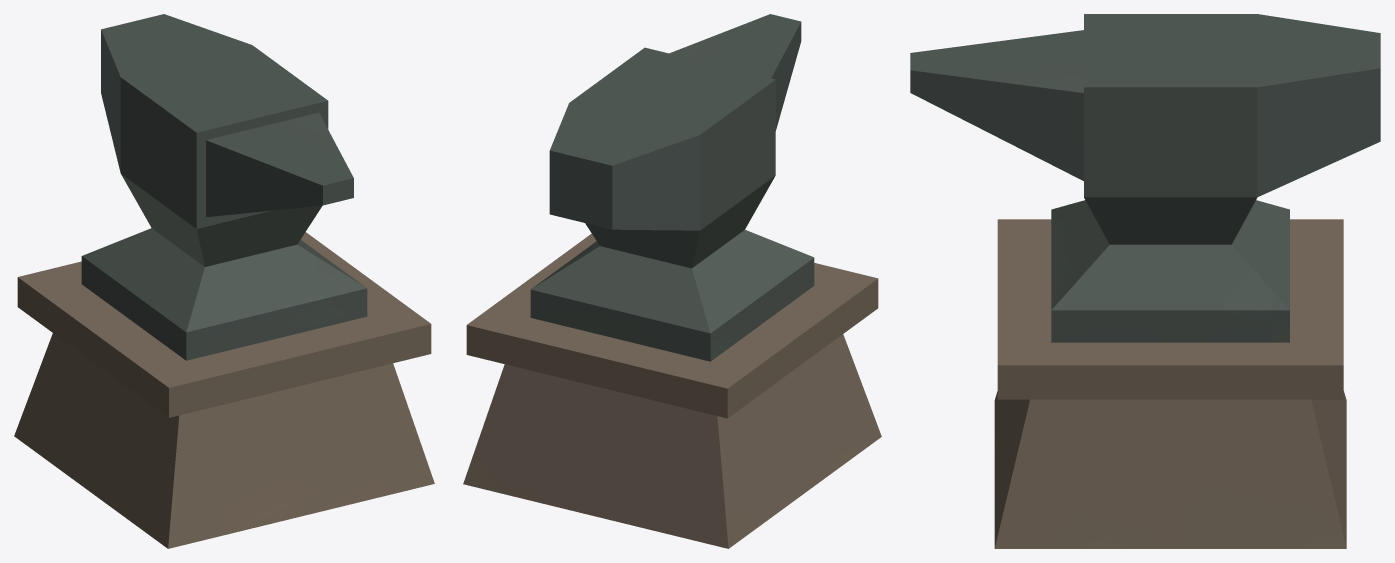
Rendered from kit-anvil.glb.
The picture shows the model from 3 angles, left to right: view 1: azimuth 30°, elevation 25°; view 2: azimuth 150°, elevation 25°; view 3: azimuth 270°, elevation 25°; orthographic projection. The views are drawn at different scales.
Parts seen in each view (by area): view 1: Cube.314; view 2: Cube.314; view 3: Cube.314.
Boxes of the visible parts, x1=… form: Cube.314: x1=14, y1=14, x2=434, y2=548; Cube.314: x1=463, y1=14, x2=881, y2=548; Cube.314: x1=910, y1=14, x2=1380, y2=548.
Size of the model in its own units: 0.4263 by 0.5665 by 0.5696.
1 material, 1 textured.
